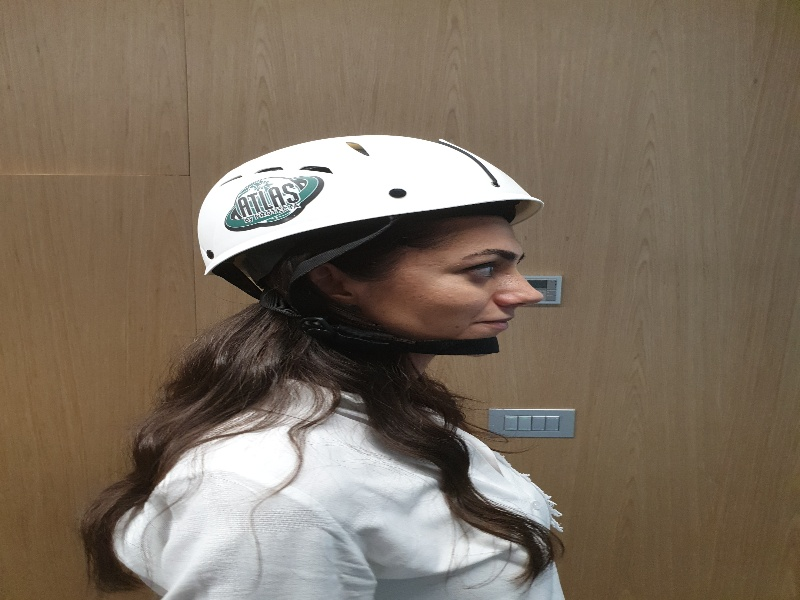Baret: (195, 135, 546, 273)
